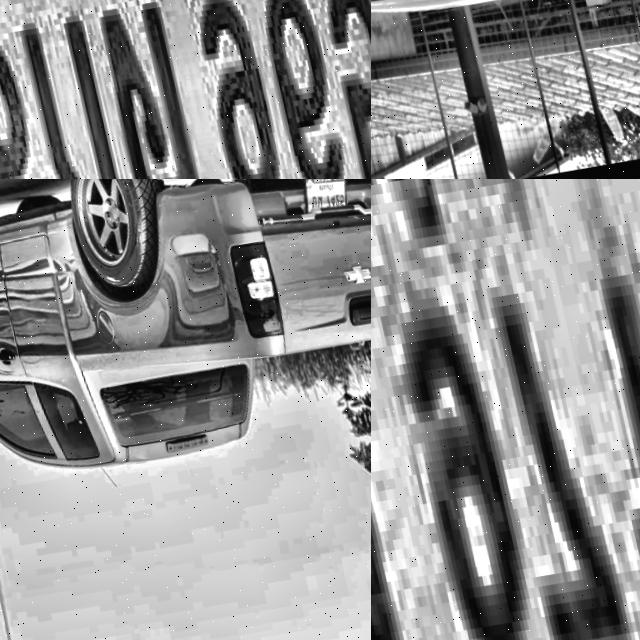license-plate: (371, 179, 640, 640), (0, 0, 371, 179), (296, 179, 354, 215)
